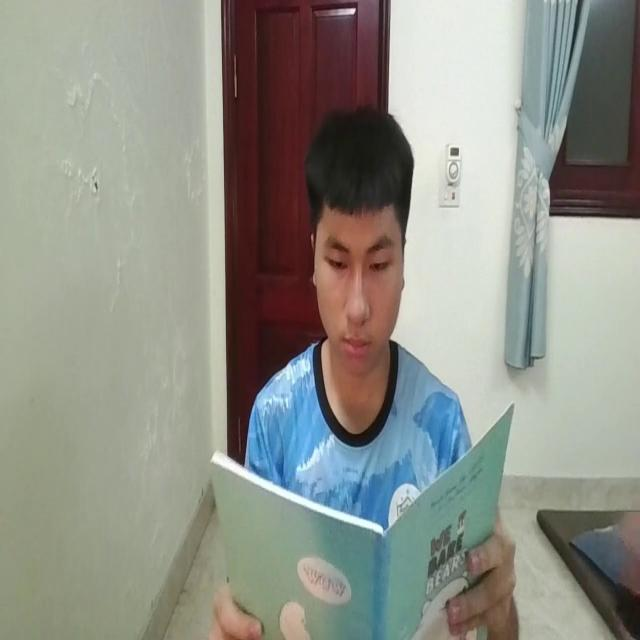book: (204, 417, 512, 640)
student: (252, 98, 470, 493)
